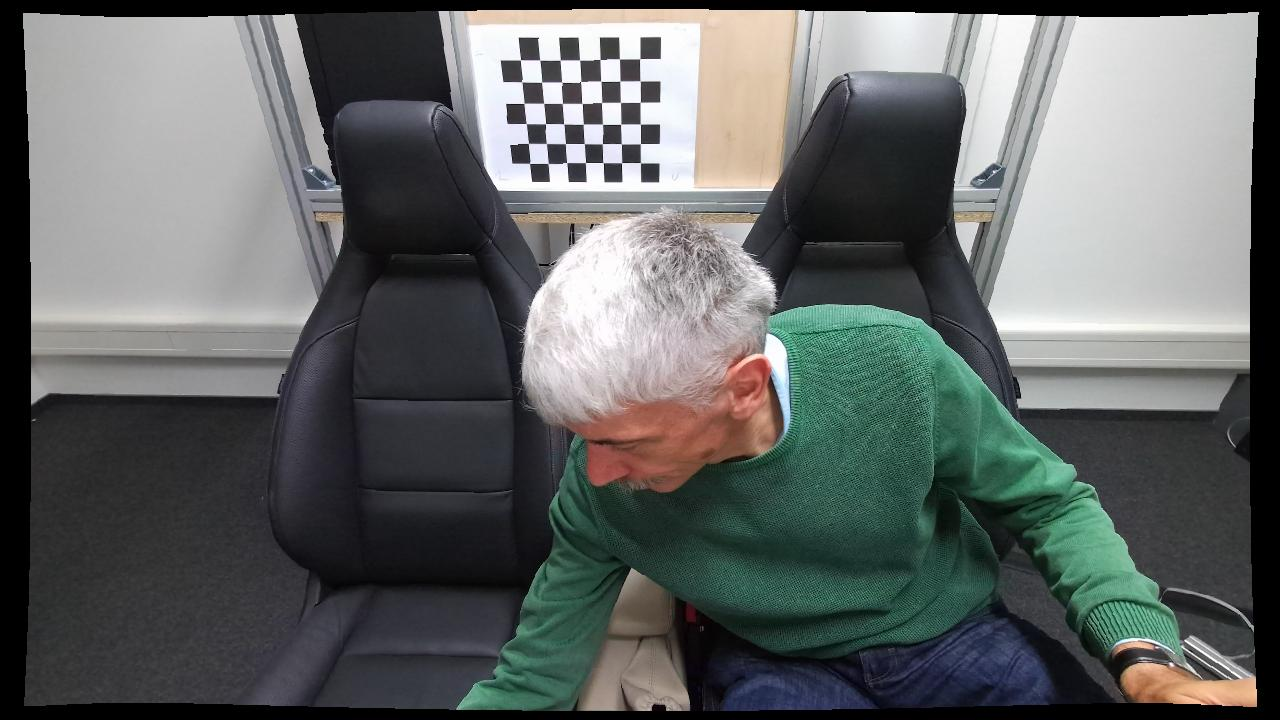Distracted: (448, 229, 1033, 714)
